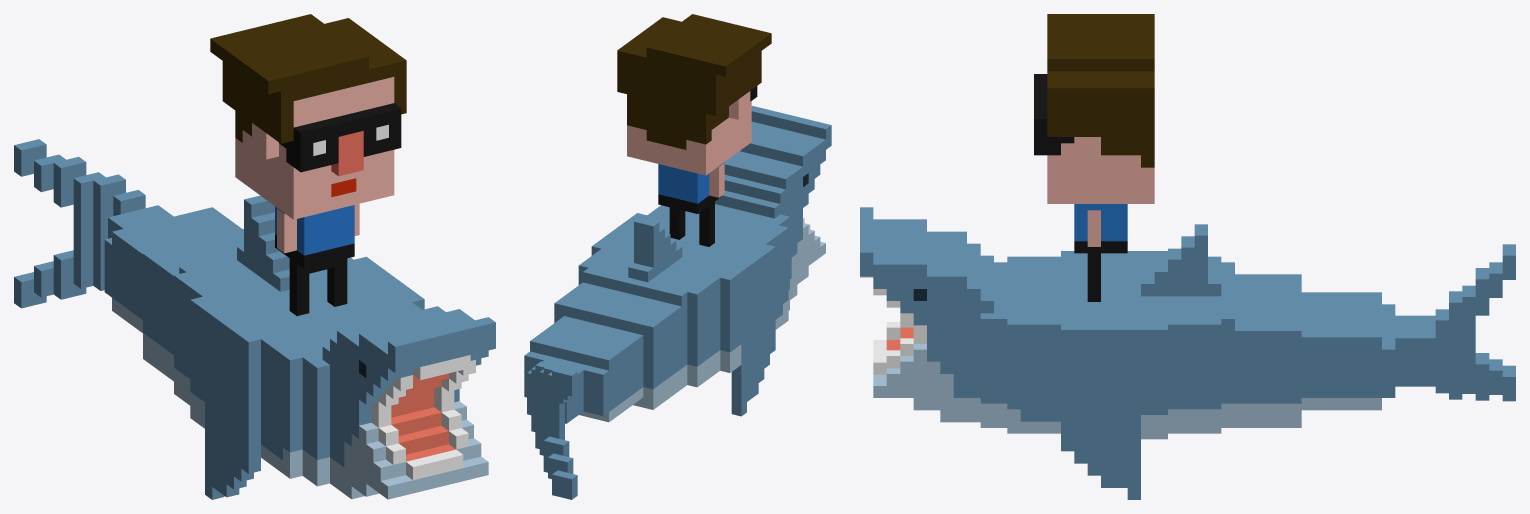
Rendered from sam_2.obj.
The picture shows the model from 3 angles, left to right: view 1: azimuth 30°, elevation 25°; view 2: azimuth 150°, elevation 25°; view 3: azimuth 270°, elevation 25°; orthographic projection. The views are drawn at different scales.
Visible parts, largest first — view 1: Matrix_1, Matrix; view 2: Matrix_1, Matrix; view 3: Matrix_1, Matrix.
Boxes of the visible parts, <box> form: Matrix_1: <box>14,139,495,499</box>; Matrix: <box>210,14,406,315</box>; Matrix_1: <box>524,106,831,499</box>; Matrix: <box>617,14,771,246</box>; Matrix_1: <box>860,207,1515,499</box>; Matrix: <box>1034,14,1154,301</box>.
Size of the model in its own units: 14 by 34 by 49.
Materials: 1 (1 with a texture image).
